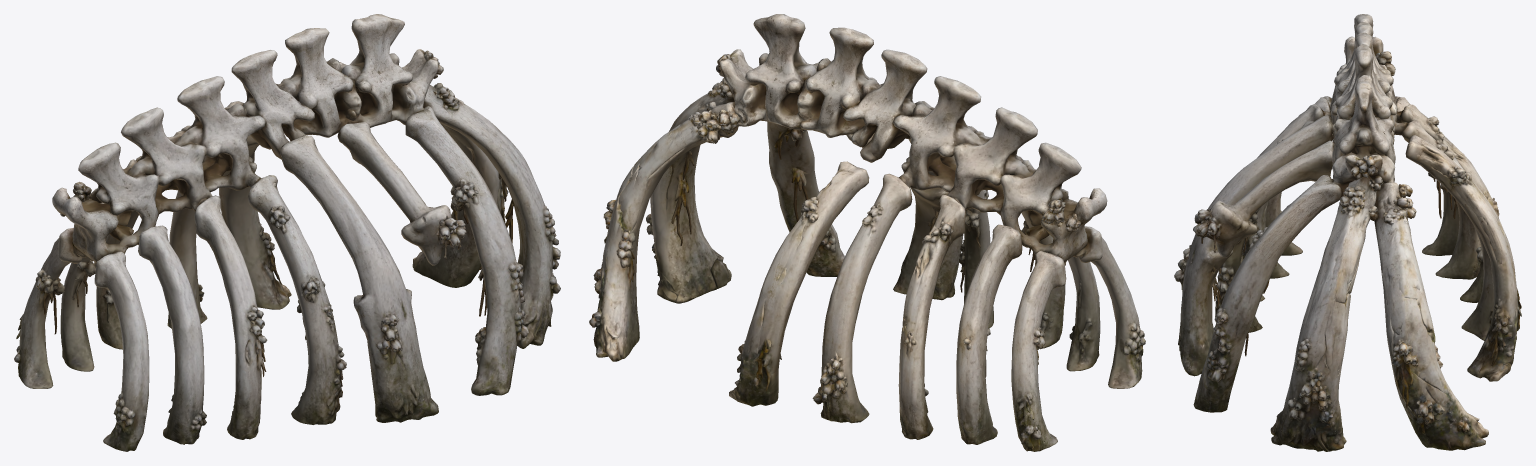
The picture shows the model from 3 angles, left to right: view 1: azimuth 30°, elevation 25°; view 2: azimuth 150°, elevation 25°; view 3: azimuth 270°, elevation 25°; orthographic projection. The views are drawn at different scales.
Parts seen in each view (by area): view 1: tripo_node_0b335965-e756-48d8-bac6-8265742b8500; view 2: tripo_node_0b335965-e756-48d8-bac6-8265742b8500; view 3: tripo_node_0b335965-e756-48d8-bac6-8265742b8500.
Part boxes in pixels (<box>): tripo_node_0b335965-e756-48d8-bac6-8265742b8500: <box>14,14,560,451</box>; tripo_node_0b335965-e756-48d8-bac6-8265742b8500: <box>589,14,1145,451</box>; tripo_node_0b335965-e756-48d8-bac6-8265742b8500: <box>1174,14,1521,451</box>.
Bounding box in the file's own units: 0.9799 × 0.646 × 0.6579.
1 material, 1 textured.
